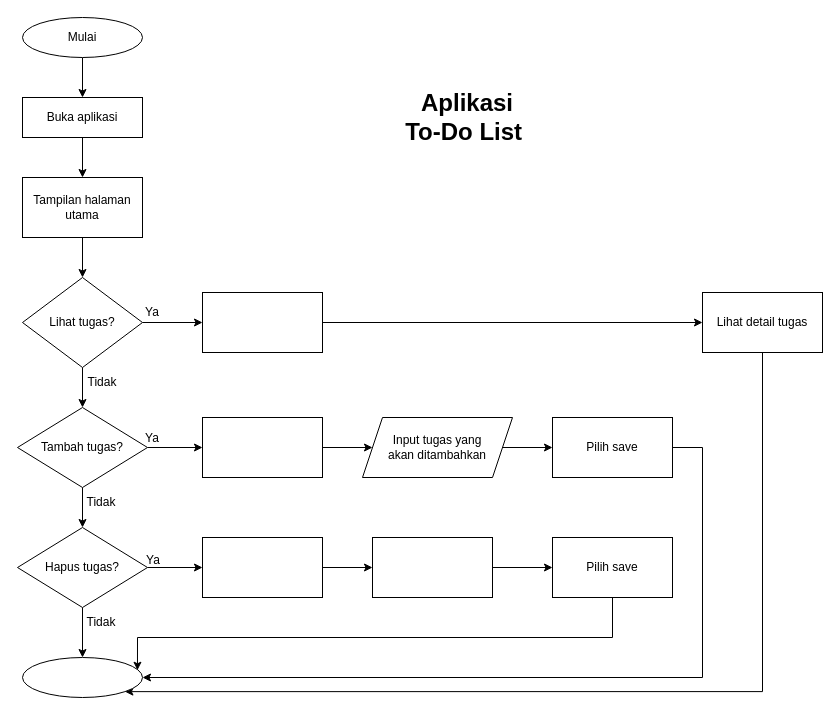
Some shapes in this 840 by 718 pixel diagram are drawn without their labels. Here are the shapes that lost their labels. From the top down, the centre of each, then its label:
pixel 262 322: Pilih tugas yang akan dilihat
pixel 262 447: Tampilan form tambah tugas
pixel 262 567: Tampilan form hapus tugas
pixel 432 567: Pilih tugas yang akan dihapus
pixel 82 677: Selesai
